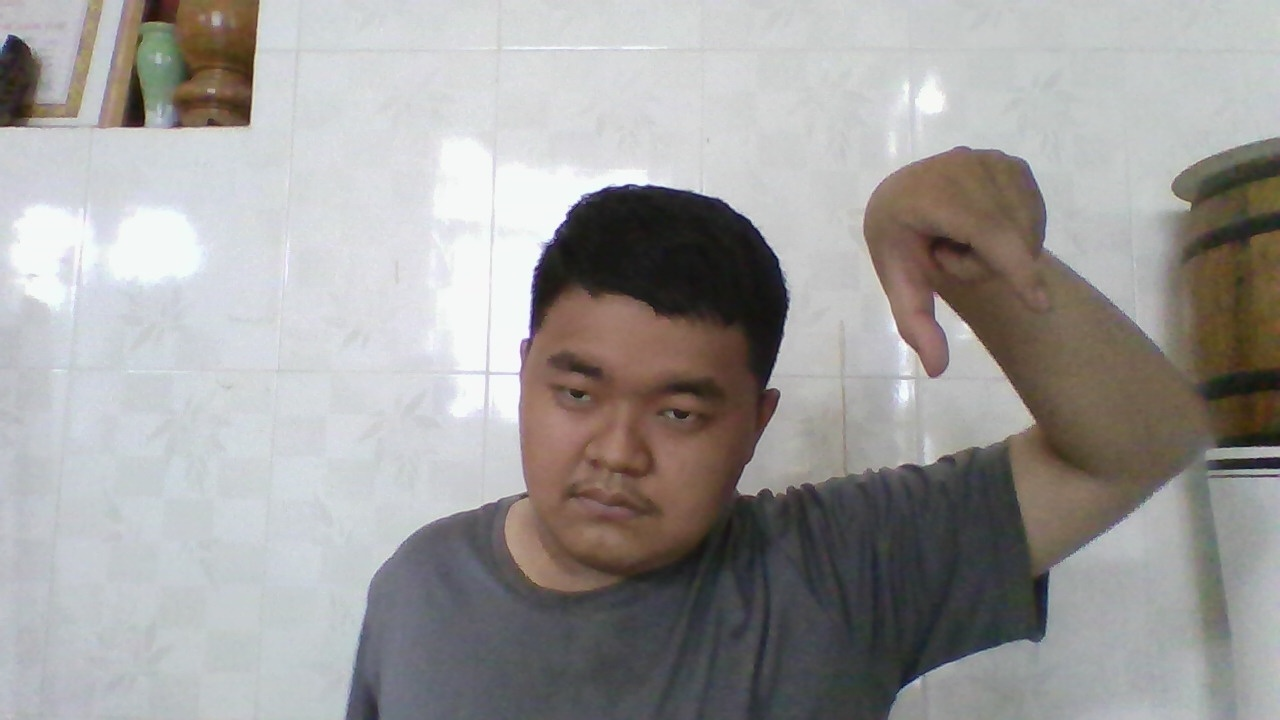Q: (864, 144, 1062, 378)
